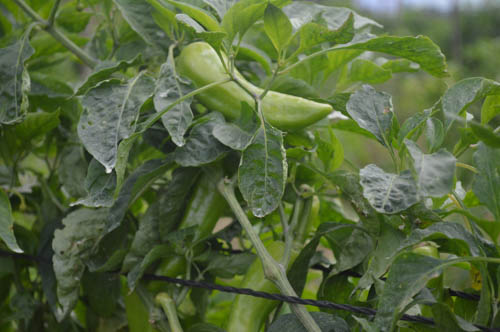ChiliPepper: (176, 45, 335, 135), (156, 165, 221, 298), (230, 244, 299, 332)
